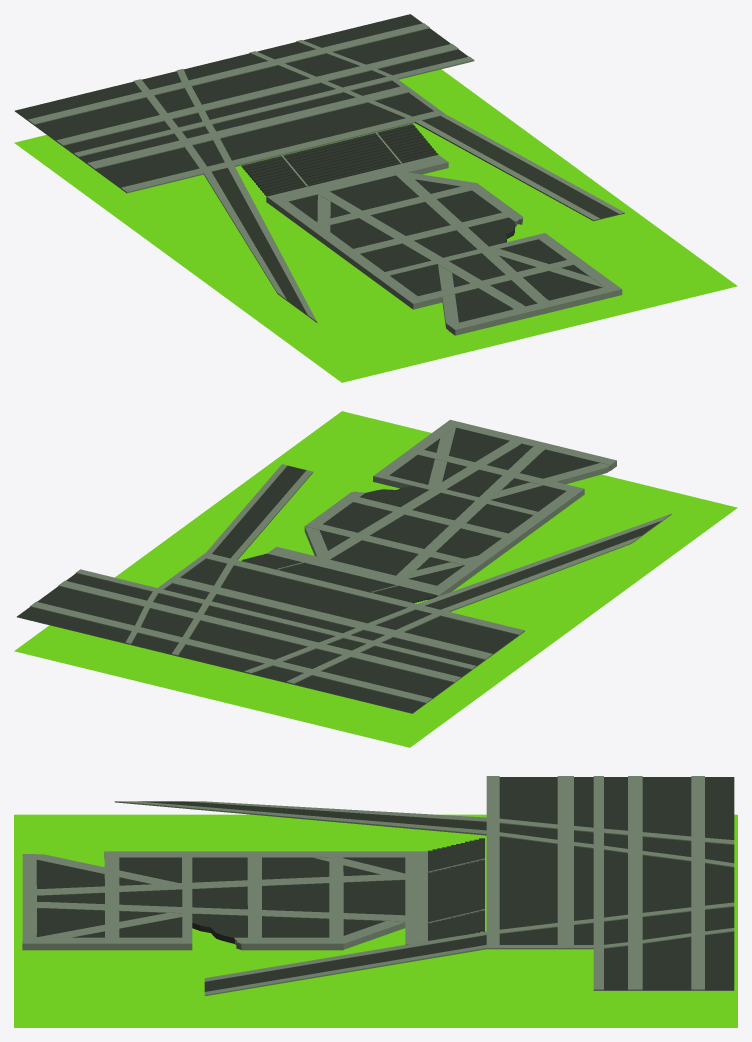
File: Floor.fbx
The picture shows the model from 3 angles, top to bottom: view 1: azimuth 30°, elevation 25°; view 2: azimuth 150°, elevation 25°; view 3: azimuth 270°, elevation 25°; orthographic projection. The views are drawn at different scales.
Parts seen in each view (by area): view 1: JH_36X30__FLOOR, Second_Floor, Floor; view 2: JH_36X30__FLOOR, Second_Floor, Floor; view 3: JH_36X30__FLOOR, Second_Floor, Floor.
Part boxes in pixels (x1,y1,x2,y2): JH_36X30__FLOOR: [14, 69, 737, 382]; Second_Floor: [15, 14, 624, 322]; Floor: [241, 124, 622, 335]; JH_36X30__FLOOR: [14, 411, 737, 747]; Second_Floor: [17, 464, 671, 713]; Floor: [241, 419, 616, 603]; JH_36X30__FLOOR: [14, 814, 737, 1027]; Second_Floor: [114, 776, 734, 996]; Floor: [22, 838, 484, 950].
Size of the model in its own units: 3494 by 291 by 5000.
